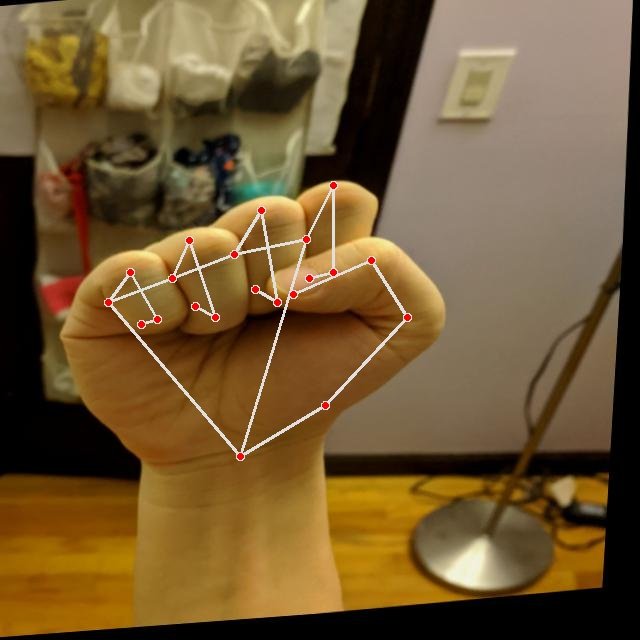S: (48, 169, 469, 488)
